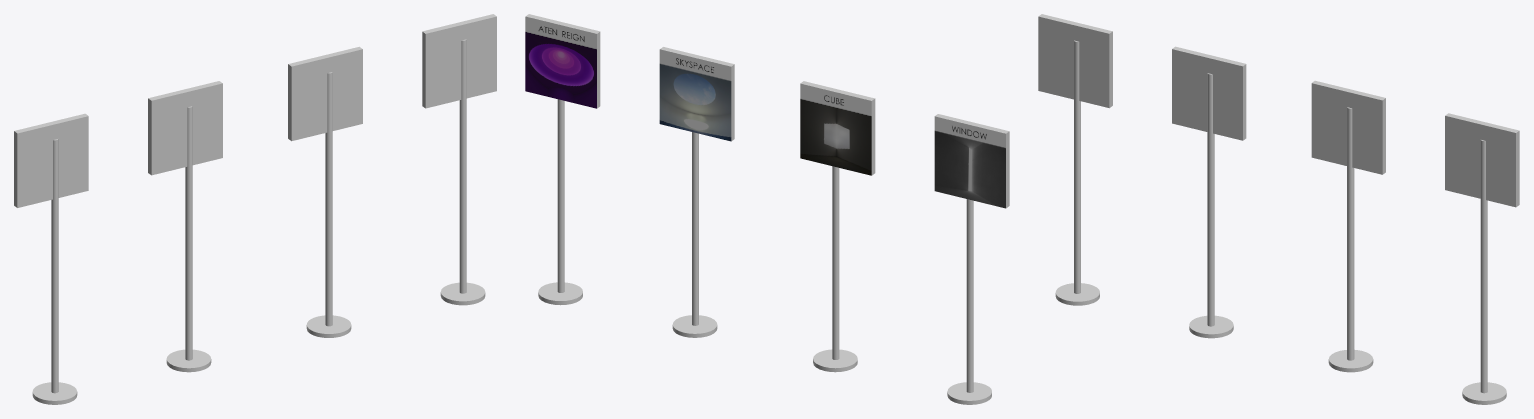
File: signs.fbx
The picture shows the model from 3 angles, left to right: view 1: azimuth 30°, elevation 25°; view 2: azimuth 150°, elevation 25°; view 3: azimuth 330°, elevation 25°; orthographic projection.
Visible parts, largest first — view 1: Model; view 2: Model; view 3: Model.
Part boxes in pixels (x1,y1,x2,y2): Model: (14,14,496,404); Model: (525,14,1009,404); Model: (1038,14,1519,404).
Size of the model in its own units: 281 by 152 by 22.62.
